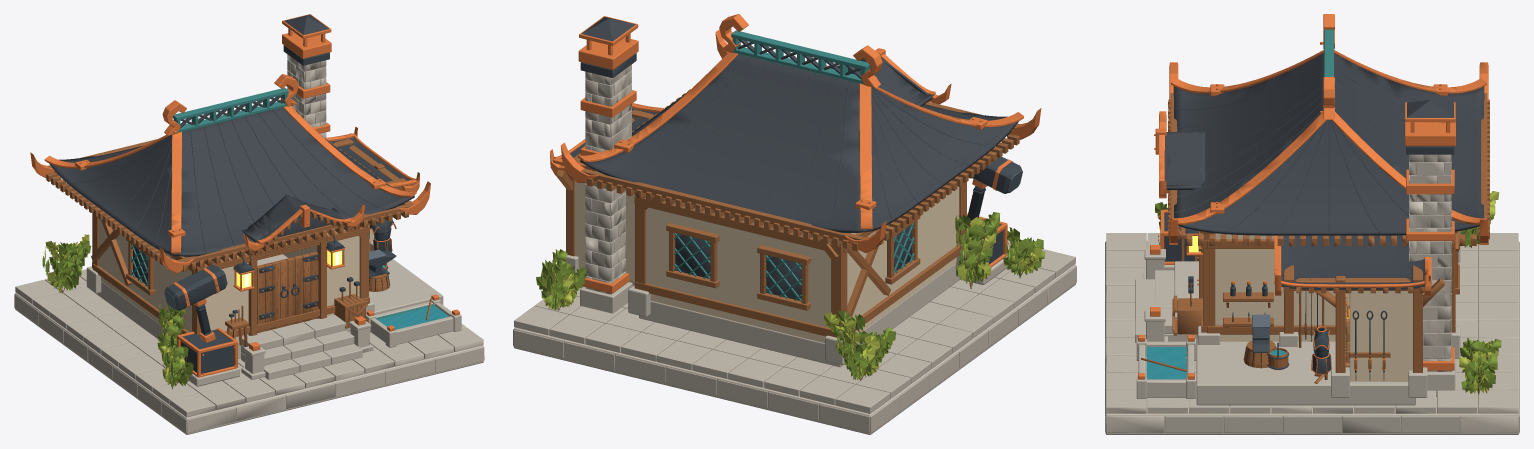
Rendered from forge-lod0-539ac5041bdd.glb.
3 renders of one model, left to right at view 1: azimuth 30°, elevation 25°; view 2: azimuth 150°, elevation 25°; view 3: azimuth 270°, elevation 25°, orthographic. The views are drawn at different scales.
Parts seen in each view (by area): view 1: RFbatch_65.027, RFbatch_68.027, RFbatch_42.027, RFbatch_47.027, RFbatch_44.027, RFbatch_2.027, RFbatch_76.027, RFbatch_28.027, RFbatch_77.027, RFbatch_51.027; view 2: RFbatch_65.027, RFbatch_68.027, RFbatch_42.027, RFbatch_2.027, RFbatch_47.027, RFbatch_44.027, RFbatch_76.027, RFbatch_28.027, RFbatch_77.027; view 3: RFbatch_65.027, RFbatch_68.027, RFbatch_42.027, RFbatch_47.027, RFbatch_2.027, RFbatch_44.027, RFbatch_76.027, RFbatch_51.027, RFbatch_77.027, RFbatch_28.027.
Boxes of the visible parts, <box> form: RFbatch_65.027: <box>14,54,484,434</box>; RFbatch_68.027: <box>49,14,415,256</box>; RFbatch_42.027: <box>45,135,431,385</box>; RFbatch_47.027: <box>30,14,459,377</box>; RFbatch_44.027: <box>68,45,396,373</box>; RFbatch_2.027: <box>99,219,374,341</box>; RFbatch_76.027: <box>42,240,193,389</box>; RFbatch_28.027: <box>131,87,434,319</box>; RFbatch_77.027: <box>44,234,184,385</box>; RFbatch_51.027: <box>377,265,449,329</box>; RFbatch_65.027: <box>513,64,1076,434</box>; RFbatch_68.027: <box>557,17,1018,232</box>; RFbatch_42.027: <box>542,86,1034,380</box>; RFbatch_2.027: <box>575,181,959,343</box>; RFbatch_47.027: <box>550,14,1041,293</box>; RFbatch_44.027: <box>580,39,1021,300</box>; RFbatch_76.027: <box>536,212,1045,380</box>; RFbatch_28.027: <box>674,30,914,301</box>; RFbatch_77.027: <box>545,216,1041,380</box>; RFbatch_65.027: <box>1105,154,1519,434</box>; RFbatch_68.027: <box>1164,53,1484,289</box>; RFbatch_42.027: <box>1141,93,1489,393</box>; RFbatch_47.027: <box>1138,14,1488,379</box>; RFbatch_2.027: <box>1215,233,1412,381</box>; RFbatch_44.027: <box>1164,60,1484,380</box>; RFbatch_76.027: <box>1155,202,1501,395</box>; RFbatch_51.027: <box>1146,346,1285,379</box>; RFbatch_77.027: <box>1166,191,1499,393</box>; RFbatch_28.027: <box>1186,29,1333,376</box>.
Bounding box in the file's own units: 10.23 × 8.29 × 10.03.
Materials: 21 (12 with a texture image).
